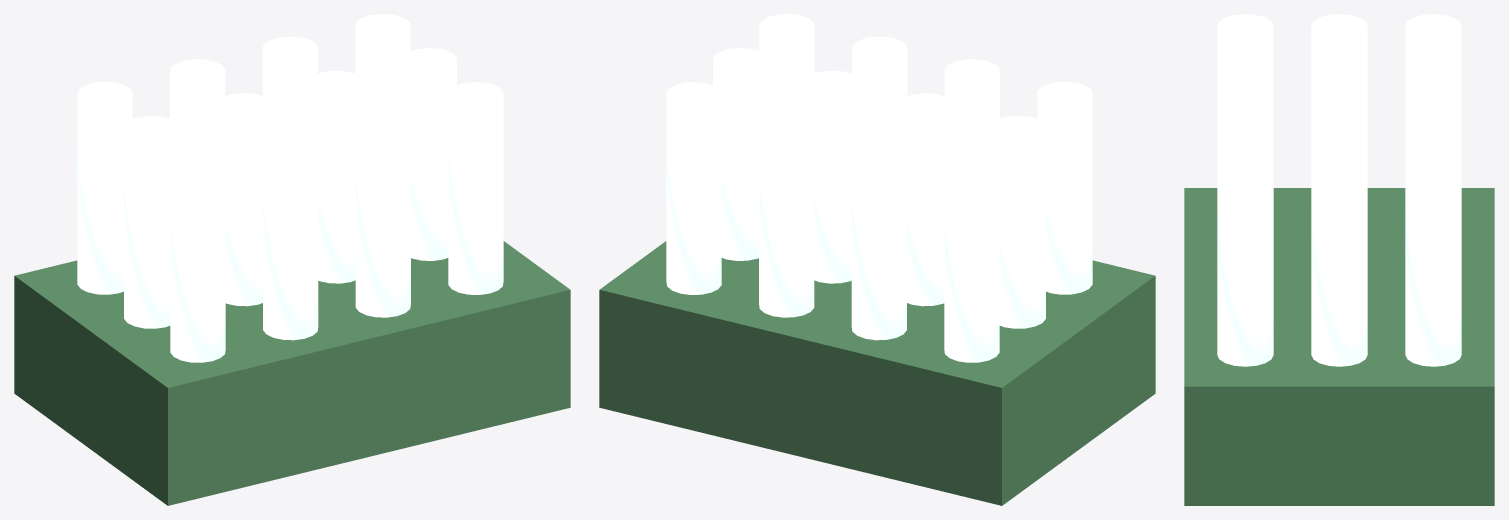
Rendered from prop_pet_case.glb.
3 renders of one model, left to right at view 1: azimuth 30°, elevation 25°; view 2: azimuth 150°, elevation 25°; view 3: azimuth 270°, elevation 25°, orthographic.
Visible parts, largest first — view 1: pet_case; view 2: pet_case; view 3: pet_case.
Part boxes in pixels (x1,y1,x2,y2): pet_case: [14, 14, 570, 505]; pet_case: [599, 14, 1155, 505]; pet_case: [1184, 14, 1494, 505].
Size of the model in its own units: 1 by 0.73 by 0.66.
